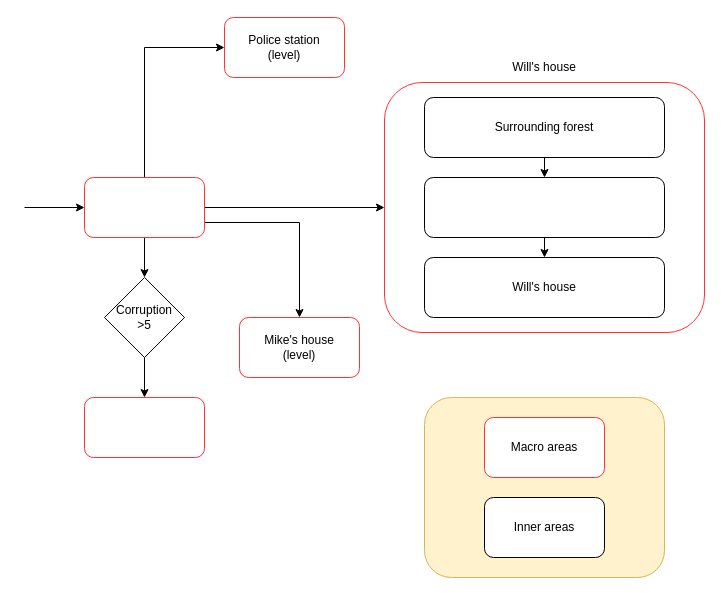
Some shapes in this 722 by 595 pixel diagram are drawn without their labels. The centre of each missing label's shape, as x and y in pixels:
"Deep wood" belongs at pixel 144 207.
"Will's castle" belongs at pixel 144 427.
"Will's garden" belongs at pixel 544 207.
